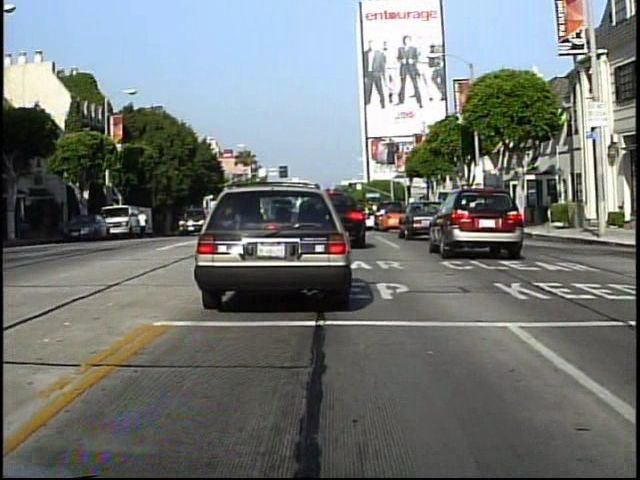person: (137, 207, 150, 242)
